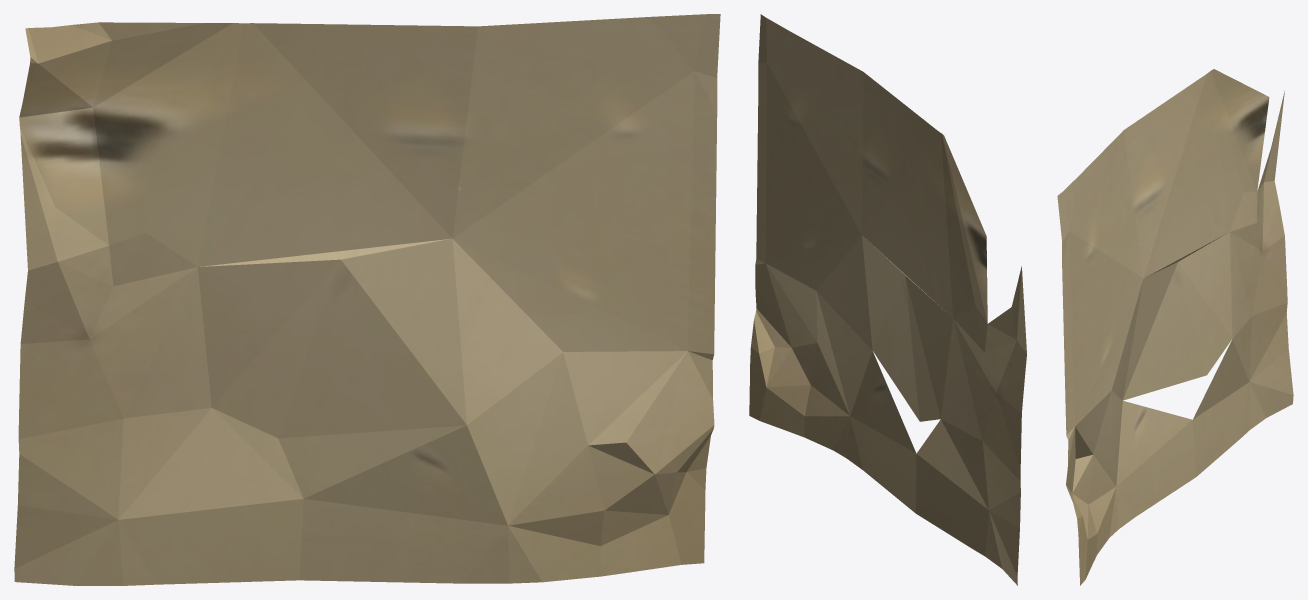
3 renders of one model, left to right at view 1: azimuth 30°, elevation 25°; view 2: azimuth 150°, elevation 25°; view 3: azimuth 270°, elevation 25°, orthographic. The views are drawn at different scales.
Size of the model in its own units: 0.8374 by 0.8374 by 0.4594.
Materials: 3 (3 with a texture image).
